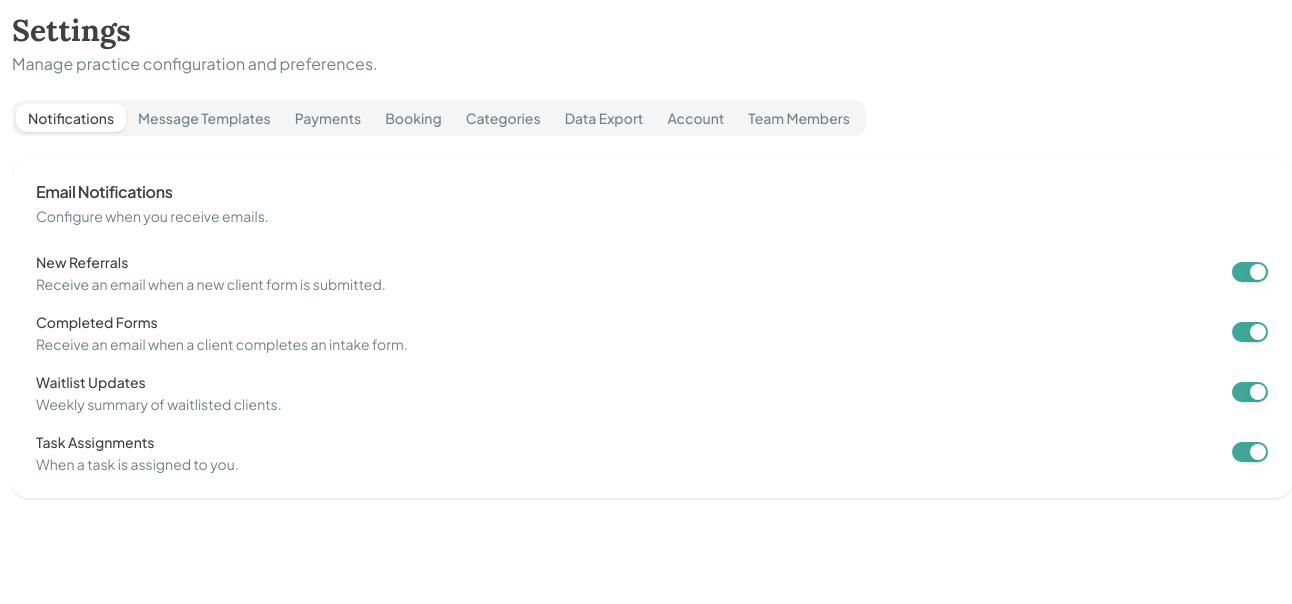
Test: signed-in booking settings › explains all missing prerequisites and prevents enabling new flexible bookings without reconciliation
Click the tab "Booking" at (413, 118), box [373,104,454,132]
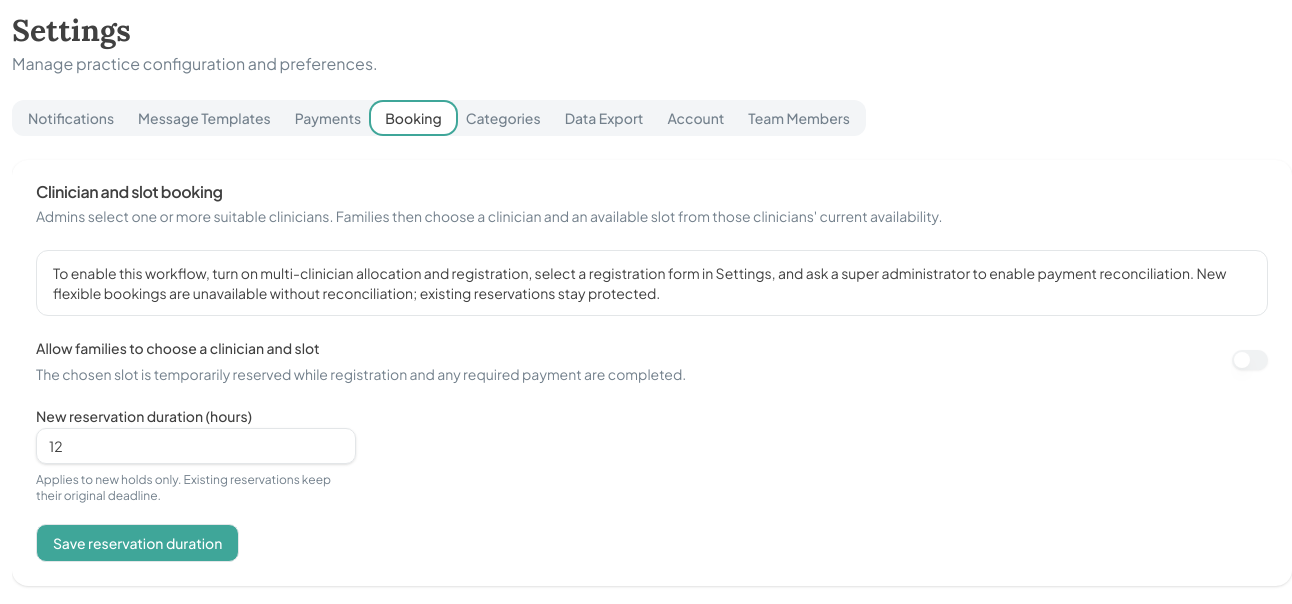
Expected: the text "New flexible bookings are unavailable without reconciliation" is shown, [53,264,1226,302]
Expected: the button "Save reservation duration" is enabled, [36,524,239,562]
